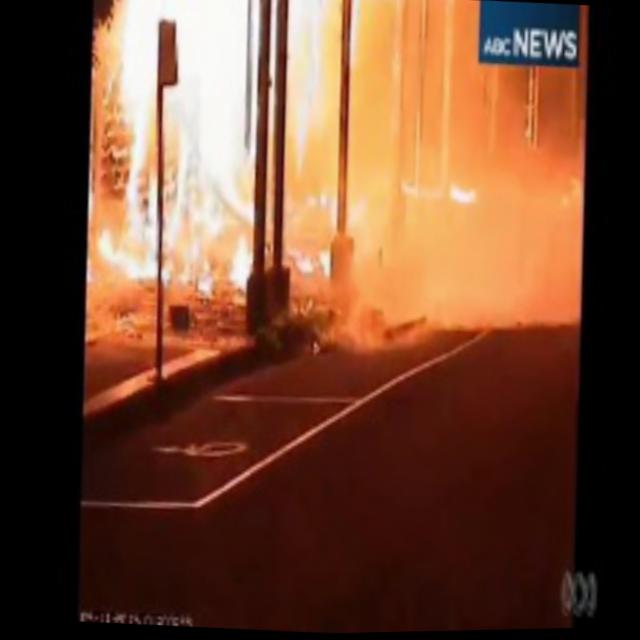fire: (175, 0, 252, 180), (159, 167, 251, 290), (116, 0, 160, 197), (283, 3, 320, 153), (96, 229, 164, 288)
smoke: (327, 0, 502, 344), (473, 66, 594, 339)
